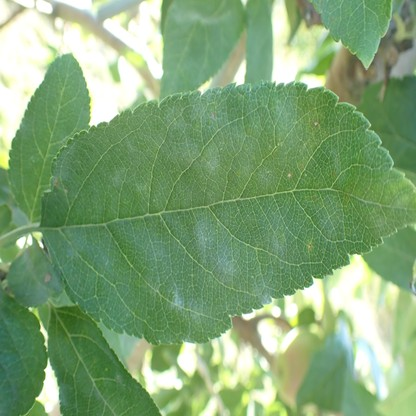frogeye: (44, 272, 52, 283)
powder: (42, 81, 416, 344), (48, 305, 162, 415), (0, 292, 46, 415)
